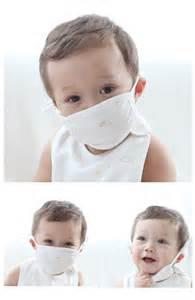OK: (59, 68, 136, 150), (35, 232, 81, 275)
WRONG: (134, 229, 181, 278)
